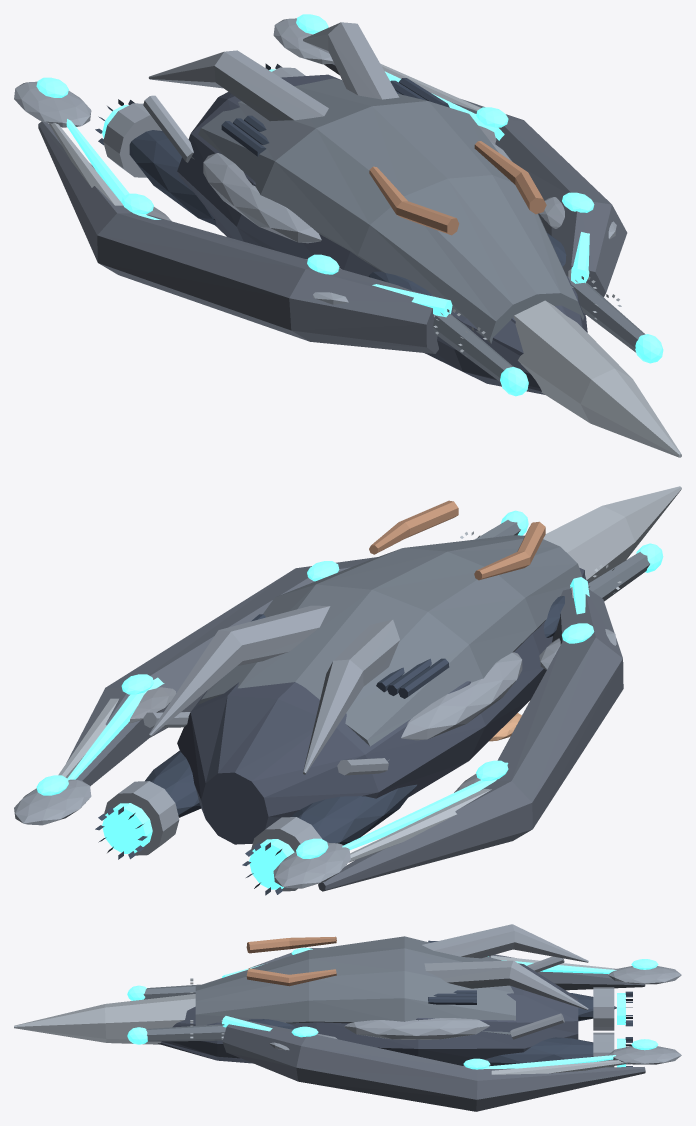
File: npc_saimon.glb
3 views of the same model, one above another, from view 1: azimuth 30°, elevation 25°; view 2: azimuth 150°, elevation 25°; view 3: azimuth 270°, elevation 25° (orthographic). The views are drawn at different scales.
Visible parts, largest first — view 1: upper_armor_scar, armored_scythe_-1, zyron_stinger, keel_pressure_hull, armored_scythe_1, zyron_upper_blade_-1, heavy_shield_pad_-1, zyron_upper_blade_1, engine_armor_-1, exhaust_coil_-1, scythe_plate_-1_2, long_plasma_cannon_-1 (+12 smaller); view 2: upper_armor_scar, keel_pressure_hull, armored_scythe_-1, armored_scythe_1, zyron_upper_blade_1, zyron_stinger, zyron_upper_blade_-1, heavy_shield_pad_-1, engine_armor_-1, exhaust_coil_1, scythe_plate_1_2, scythe_plate_-1_2 (+14 smaller); view 3: upper_armor_scar, armored_scythe_1, keel_pressure_hull, zyron_stinger, zyron_upper_blade_1, zyron_upper_blade_-1, heavy_shield_pad_1, engine_armor_1, armored_scythe_-1, long_plasma_cannon_1, scythe_plate_-1_2, energy_etched_rail_1 (+14 smaller).
Boxes of the visible parts, <box> form: upper_armor_scar: <box>191,78,584,343</box>; armored_scythe_-1: <box>38,121,438,353</box>; zyron_stinger: <box>513,300,681,457</box>; keel_pressure_hull: <box>177,74,587,394</box>; armored_scythe_1: <box>324,63,627,314</box>; zyron_upper_blade_-1: <box>148,50,328,121</box>; heavy_shield_pad_-1: <box>203,153,321,243</box>; zyron_upper_blade_1: <box>303,22,399,99</box>; engine_armor_-1: <box>129,130,216,225</box>; exhaust_coil_-1: <box>103,103,161,177</box>; scythe_plate_-1_2: <box>14,81,91,127</box>; long_plasma_cannon_-1: <box>432,314,512,381</box>; upper_armor_scar: <box>198,535,582,761</box>; keel_pressure_hull: <box>177,568,589,844</box>; armored_scythe_-1: <box>318,589,623,891</box>; armored_scythe_1: <box>66,557,377,786</box>; zyron_upper_blade_1: <box>148,605,330,736</box>; zyron_stinger: <box>543,486,681,581</box>; zyron_upper_blade_-1: <box>303,619,399,774</box>; heavy_shield_pad_-1: <box>401,652,522,740</box>; engine_armor_-1: <box>292,784,417,845</box>; exhaust_coil_1: <box>104,781,179,855</box>; scythe_plate_1_2: <box>14,779,91,825</box>; scythe_plate_-1_2: <box>273,842,350,888</box>; upper_armor_scar: <box>195,936,515,1034</box>; armored_scythe_1: <box>222,1018,645,1111</box>; keel_pressure_hull: <box>158,963,578,1065</box>; zyron_stinger: <box>14,994,195,1044</box>; zyron_upper_blade_1: <box>424,960,588,1010</box>; zyron_upper_blade_-1: <box>422,924,588,962</box>; heavy_shield_pad_1: <box>344,1018,489,1039</box>; engine_armor_1: <box>484,1037,593,1065</box>; armored_scythe_-1: <box>248,947,645,990</box>; long_plasma_cannon_1: <box>146,1024,225,1041</box>; scythe_plate_-1_2: <box>608,966,681,984</box>; energy_etched_rail_1: <box>222,1016,615,1069</box>.
Size of the model in its own units: 2.46 by 0.9968 by 5.13.
